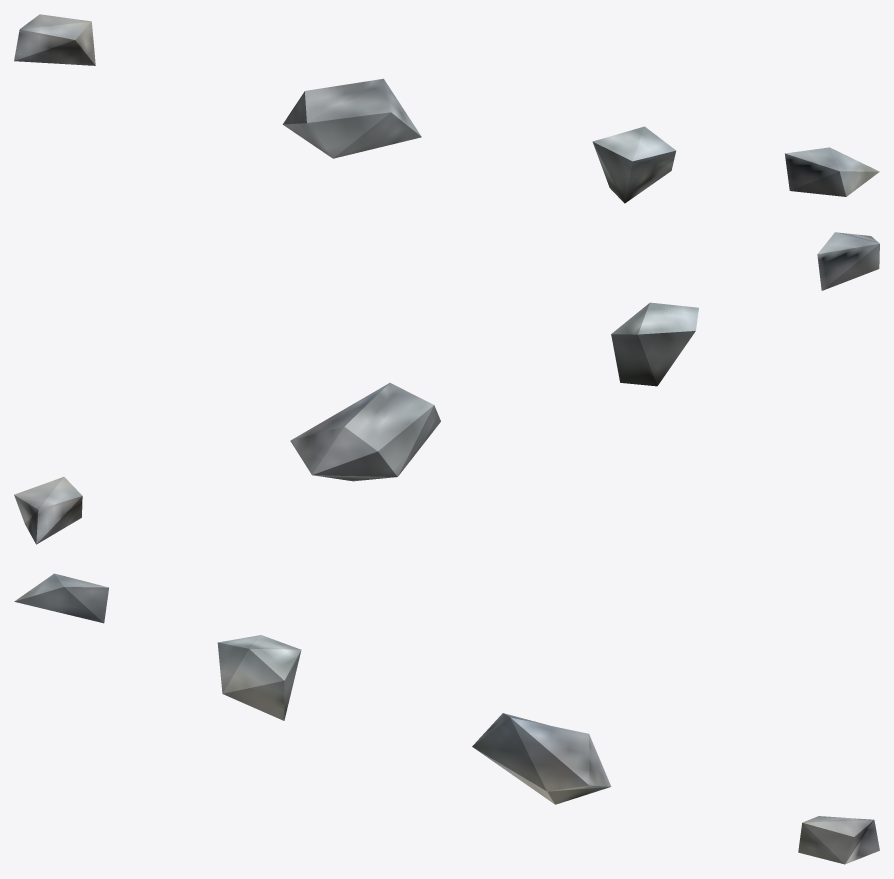
3 renders of one model, top to bottom at view 1: azimuth 90°, elevation 25°; view 2: azimuth 150°, elevation 25°; view 3: azimuth 270°, elevation 25°, orthographic. The views are drawn at different scales.
Size of the model in its own units: 0.3073 by 0.0764 by 0.5347.
1 material, 1 textured.
